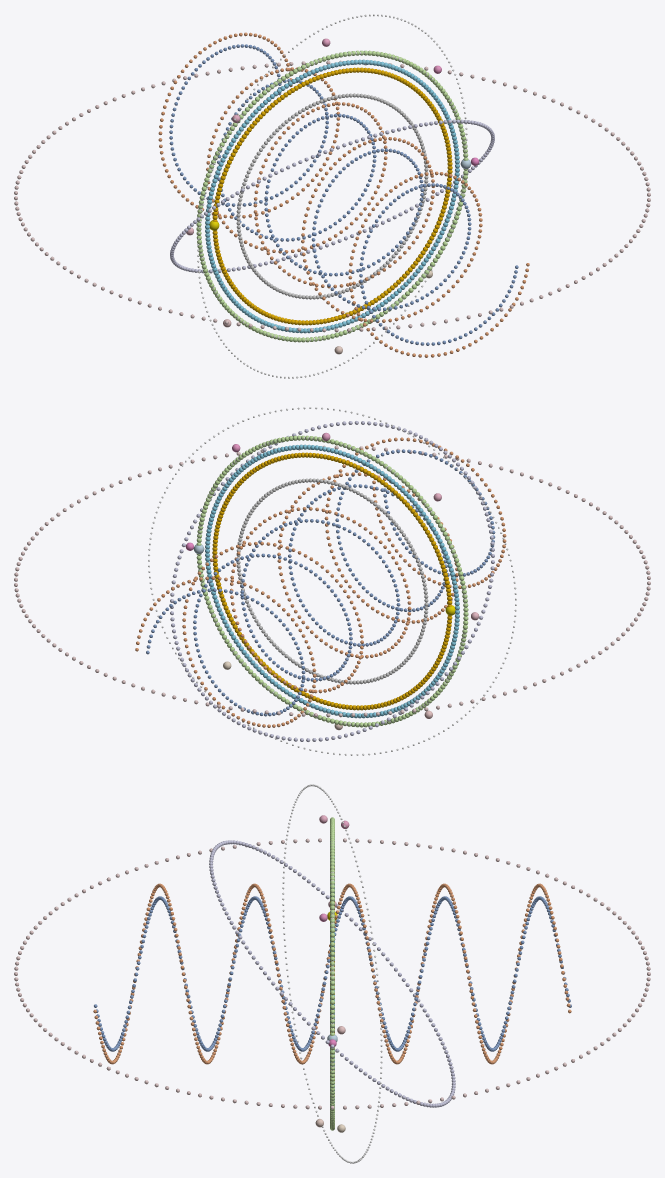
Rendered from Breathing_Crystal_nBands_Prime_Wiring_FULL.glb.
3 views of the same model, one above another, from view 1: azimuth 30°, elevation 25°; view 2: azimuth 150°, elevation 25°; view 3: azimuth 270°, elevation 25° (orthographic).
Visible parts, largest first — view 1: world; view 2: world; view 3: world.
Boxes of the visible parts, x1=… form: world: x1=14, y1=14, x2=650, y2=378; world: x1=14, y1=407, x2=650, y2=755; world: x1=14, y1=784, x2=650, y2=1163.
Bounding box in the file's own units: 6.04 × 3.62 × 6.04.
